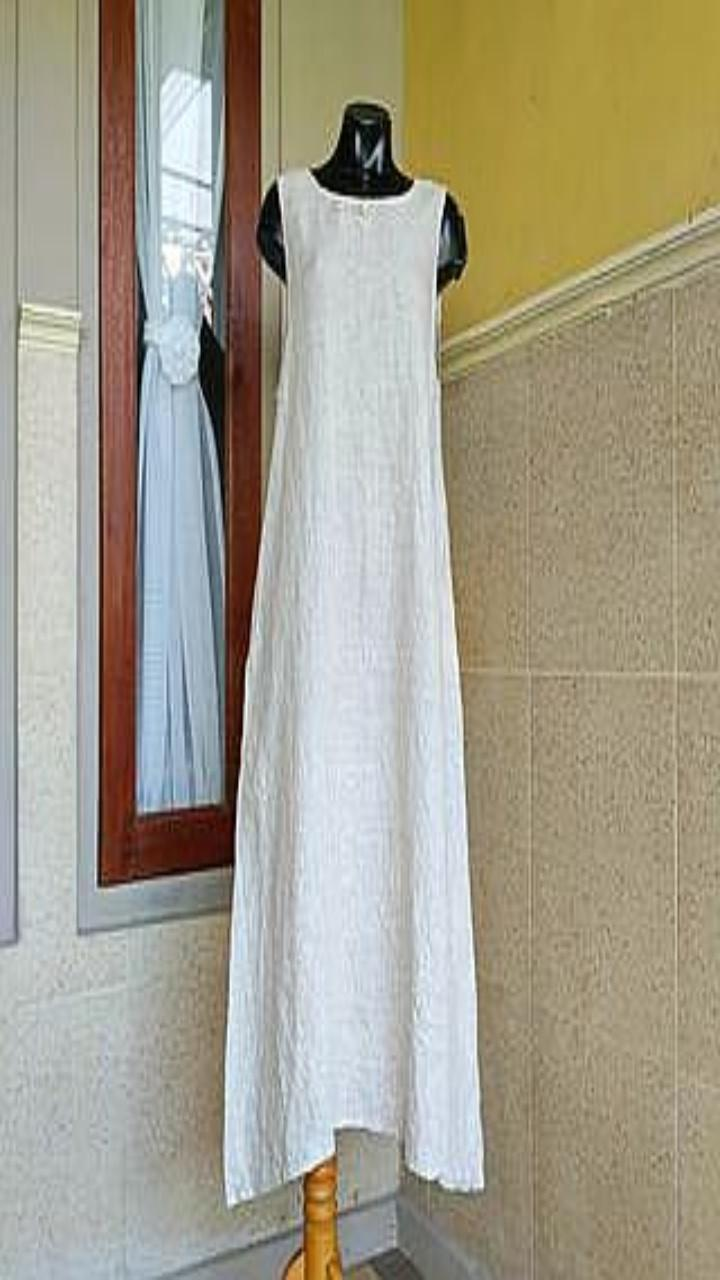Dresses: (224, 169, 482, 1204)
